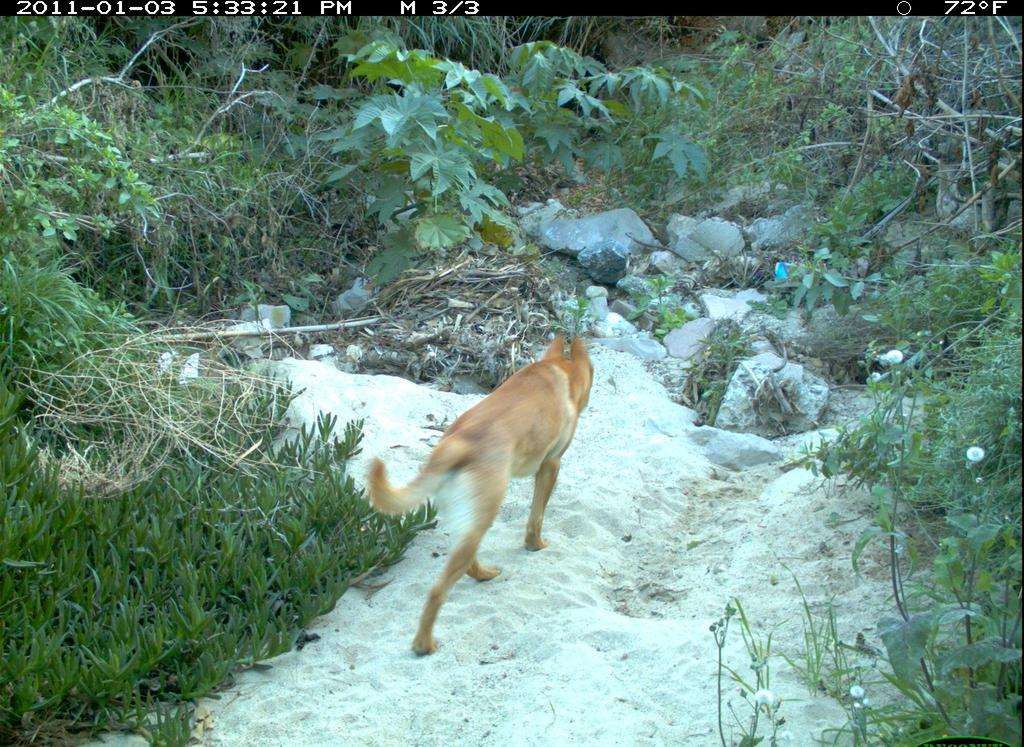dog: (358, 319, 602, 665)
